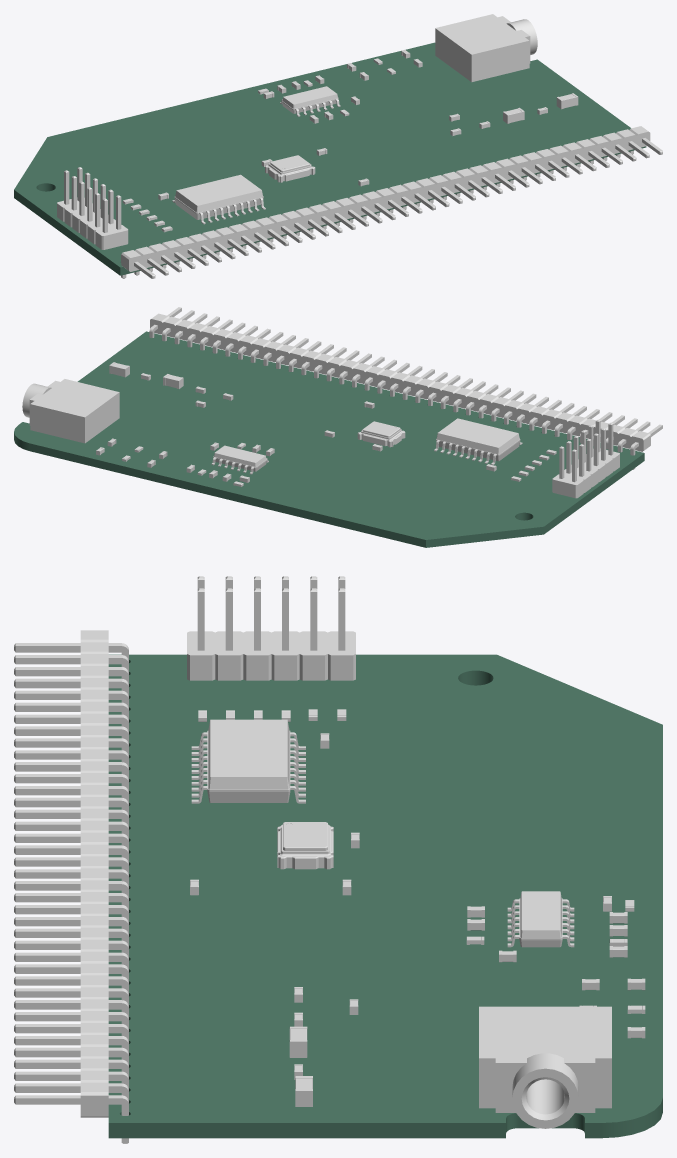
File: rcbus-ymf262-3D.glb
3 renders of one model, top to bottom at view 1: azimuth 30°, elevation 25°; view 2: azimuth 150°, elevation 25°; view 3: azimuth 270°, elevation 25°, orthographic. The views are drawn at different scales.
Parts seen in each view (by area): view 1: =>[0:1:1:12], P1, CON1, JP1, U1, U4, Y1; view 2: =>[0:1:1:12], P1, CON1, JP1, U1, U4, Y1; view 3: =>[0:1:1:12], P1, CON1, JP1, U1, U4, Y1.
Boxes of the visible parts, bbox=[...] form: =>[0:1:1:12]: bbox=[14, 42, 646, 275]; P1: bbox=[121, 126, 662, 278]; CON1: bbox=[435, 14, 537, 82]; JP1: bbox=[57, 167, 128, 249]; U1: bbox=[172, 174, 265, 224]; U4: bbox=[280, 86, 340, 116]; Y1: bbox=[265, 155, 315, 182]; =>[0:1:1:12]: bbox=[14, 331, 644, 547]; P1: bbox=[149, 307, 662, 469]; CON1: bbox=[22, 379, 119, 443]; JP1: bbox=[552, 419, 619, 498]; U1: bbox=[434, 418, 522, 465]; U4: bbox=[211, 445, 268, 474]; Y1: bbox=[357, 421, 405, 447]; =>[0:1:1:12]: bbox=[108, 654, 662, 1138]; P1: bbox=[14, 630, 128, 1143]; CON1: bbox=[479, 1006, 611, 1128]; JP1: bbox=[187, 576, 355, 680]; U1: bbox=[191, 719, 305, 803]; U4: bbox=[507, 891, 574, 947]; Y1: bbox=[277, 822, 333, 869].
Size of the model in its own units: 0.1004 by 0.0118 by 0.0585.
